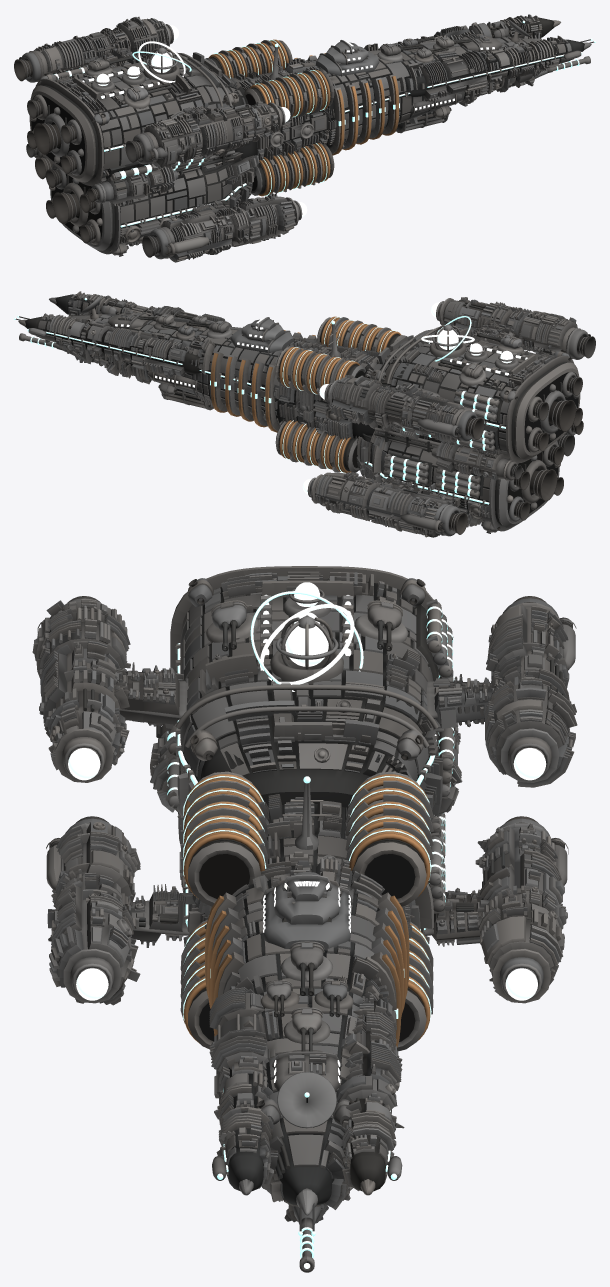
Rendered from ship.glb.
3 renders of one model, top to bottom at view 1: azimuth 30°, elevation 25°; view 2: azimuth 150°, elevation 25°; view 3: azimuth 270°, elevation 25°, orthographic. The views are drawn at different scales.
Visible parts, largest first — view 1: hull, impulse-nacelle__3, impulse-nacelle__1, avidyne-engine__5, impulse-response-filter__3, driver-coil__4, driver-coil__3, driver-coil__5, driver-coil__2, impulse-deck__1, driver-coil__1, avidyne-engine__3 (+24 smaller); view 2: hull, impulse-nacelle__3, impulse-nacelle__1, avidyne-engine__5, impulse-capacitance-cell__4, impulse-response-filter__3, impulse-capacitance-cell__3, impulse-nacelle__5, driver-coil__4, impulse-capacitance-cell__5, driver-coil__3, driver-coil__5 (+27 smaller); view 3: hull, impulse-nacelle__3, impulse-nacelle__1, impulse-nacelle__2, impulse-nacelle__4, impulse-response-filter__3, driver-coil__5, impulse-response-filter__1, impulse-deck__1, impulse-control-system__2, impulse-reactor__1, impulse-capacitance-cell__5 (+25 smaller).
Boxes of the visible parts, x1=… form: hull: x1=29, y1=14, x2=591, y2=254; impulse-nacelle__3: x1=14, y1=16, x2=283, y2=166; impulse-nacelle__1: x1=35, y1=157, x2=299, y2=262; avidyne-engine__5: x1=26, y1=143, x2=178, y2=205; impulse-response-filter__3: x1=86, y1=55, x2=171, y2=108; driver-coil__4: x1=255, y1=42, x2=317, y2=185; driver-coil__3: x1=241, y1=46, x2=303, y2=189; driver-coil__5: x1=269, y1=39, x2=330, y2=182; driver-coil__2: x1=227, y1=49, x2=289, y2=192; impulse-deck__1: x1=316, y1=50, x2=379, y2=76; driver-coil__1: x1=208, y1=53, x2=275, y2=196; avidyne-engine__3: x1=27, y1=94, x2=81, y2=144; hull: x1=18, y1=291, x2=580, y2=531; impulse-nacelle__3: x1=326, y1=297, x2=595, y2=442; impulse-nacelle__1: x1=310, y1=434, x2=574, y2=537; avidyne-engine__5: x1=431, y1=421, x2=583, y2=480; impulse-capacitance-cell__4: x1=383, y1=452, x2=432, y2=485; impulse-response-filter__3: x1=438, y1=332, x2=523, y2=386; impulse-capacitance-cell__3: x1=435, y1=467, x2=484, y2=498; impulse-nacelle__5: x1=400, y1=334, x2=590, y2=532; driver-coil__4: x1=292, y1=319, x2=354, y2=462; impulse-capacitance-cell__5: x1=453, y1=389, x2=503, y2=421; driver-coil__3: x1=306, y1=323, x2=368, y2=466; driver-coil__5: x1=279, y1=316, x2=340, y2=459; hull: x1=170, y1=566, x2=443, y2=1215; impulse-nacelle__3: x1=32, y1=596, x2=577, y2=787; impulse-nacelle__1: x1=47, y1=816, x2=567, y2=1005; impulse-nacelle__2: x1=63, y1=949, x2=551, y2=1003; impulse-nacelle__4: x1=55, y1=728, x2=559, y2=782; impulse-response-filter__3: x1=205, y1=600, x2=408, y2=651; driver-coil__5: x1=183, y1=828, x2=431, y2=1043; impulse-response-filter__1: x1=281, y1=941, x2=332, y2=1055; impulse-deck__1: x1=261, y1=887, x2=353, y2=950; impulse-control-system__2: x1=277, y1=1072, x2=336, y2=1128; impulse-reactor__1: x1=270, y1=625, x2=343, y2=683; impulse-capacitance-cell__5: x1=165, y1=599, x2=453, y2=744.
Bounding box in the file's own units: 23.46 × 7.68 × 10.02.
